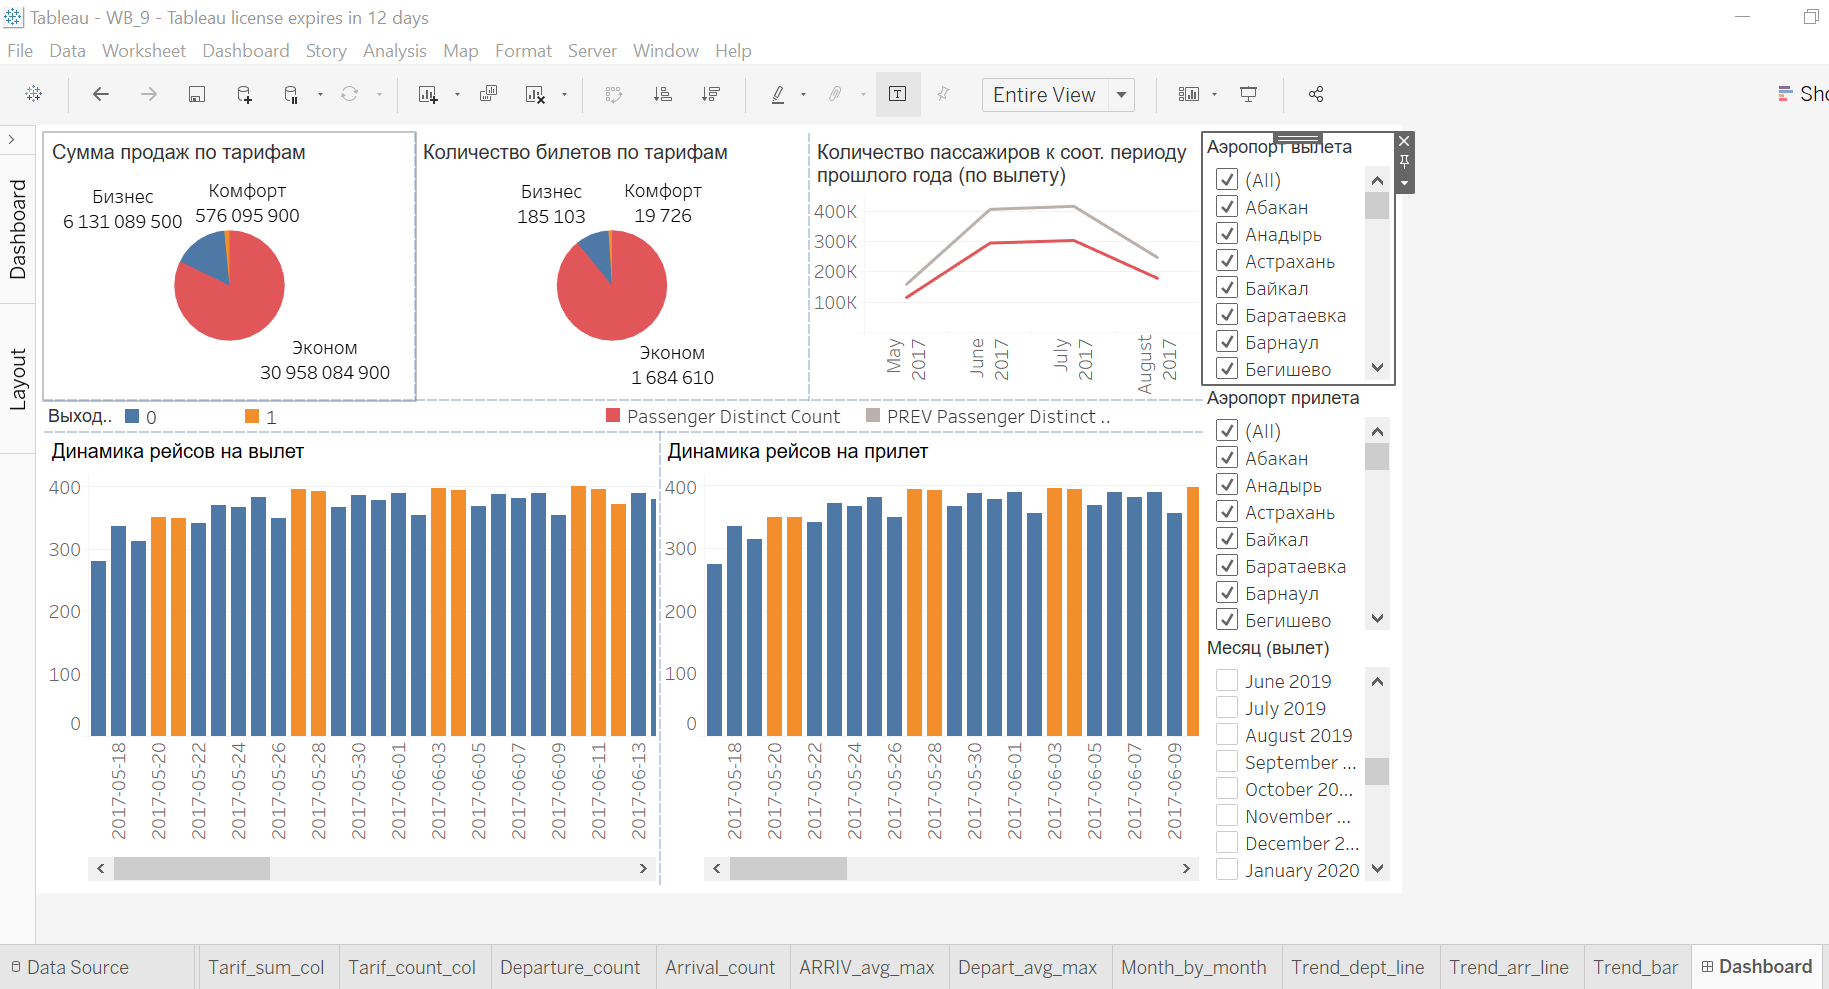

Layout of this report page (visuals, bound fields, positions):
{"tool":"tableau","page":{"name":"Dashboard","canvas":[1366,768],"ordinal":0},"visuals":[{"type":"worksheet","box":[0,0,1366,768]},{"type":"worksheet","param":"horz","box":[8,8,1350,752]},{"type":"worksheet","box":[8,8,1159,752]},{"type":"worksheet","title":"Tarif_sum","mark":"Pie","box":[8,8,371,267]},{"type":"worksheet","title":"Tarif_count","mark":"Pie","box":[379.1,8,394,267]},{"type":"worksheet","title":"Trend_dept_line","mark":"Line","cols":["Month"],"box":[773,8,394,267]},{"type":"worksheet","param":"vert","box":[1167,8,191,752]},{"type":"worksheet","title":"Tarif_count","mark":"Pie","param":"[msolap.1nocdf309uj6il158g2ja0o0giso].[Departure Airport].[Id]","box":[1167,8,191,250.7]},{"type":"worksheet","title":"Tarif_count","mark":"Pie","param":"[msolap.1nocdf309uj6il158g2ja0o0giso].[Arrival Airport].[Id]","box":[1167,258.7,191,250.7]},{"type":"worksheet","title":"Departure_count","mark":"Bar","rows":["Flight Distinct Count"],"cols":["date"],"param":"[msolap.1nocdf309uj6il158g2ja0o0giso].[Scheduled Departure].[Holiday].[none:Holi","box":[8,275,1159,32]},{"type":"worksheet","title":"Trend_dept_line","mark":"Line","cols":["Month"],"param":"[msolap.1nocdf309uj6il158g2ja0o0giso].[:Measure Names]","box":[493,278,673,30]},{"type":"worksheet","title":"Departure_count","mark":"Bar","rows":["Flight Distinct Count"],"cols":["date"],"box":[8,307,616.5,453]},{"type":"worksheet","title":"Arrival_count","mark":"Bar","rows":["Flight Distinct Count"],"cols":["date"],"box":[624.5,307,542.5,453]},{"type":"worksheet","title":"Trend_dept_line","mark":"Line","cols":["Month"],"param":"[msolap.1nocdf309uj6il158g2ja0o0giso].[Scheduled Departure].[Month]","box":[1167,509.3,191,250.7]}]}

Visuals, with their boxes on the page's 1366x768 design canvas (x1, y1, x2, y2). These are canvas units, not pixel positions in the 1829x989 screenshot, which may show the page scaled, cropped or inside an application window:
worksheet: [0,0,1366,768]
worksheet: [8,8,1358,760]
worksheet: [8,8,1167,760]
"Tarif_sum" worksheet (Pie marks): [8,8,379,275]
"Tarif_count" worksheet (Pie marks): [379,8,773,275]
"Trend_dept_line" worksheet (Line marks): [773,8,1167,275]
worksheet: [1167,8,1358,760]
"Tarif_count" worksheet (Pie marks): [1167,8,1358,259]
"Tarif_count" worksheet (Pie marks): [1167,259,1358,509]
"Departure_count" worksheet (Bar marks): [8,275,1167,307]
"Trend_dept_line" worksheet (Line marks): [493,278,1166,308]
"Departure_count" worksheet (Bar marks): [8,307,624,760]
"Arrival_count" worksheet (Bar marks): [624,307,1167,760]
"Trend_dept_line" worksheet (Line marks): [1167,509,1358,760]
